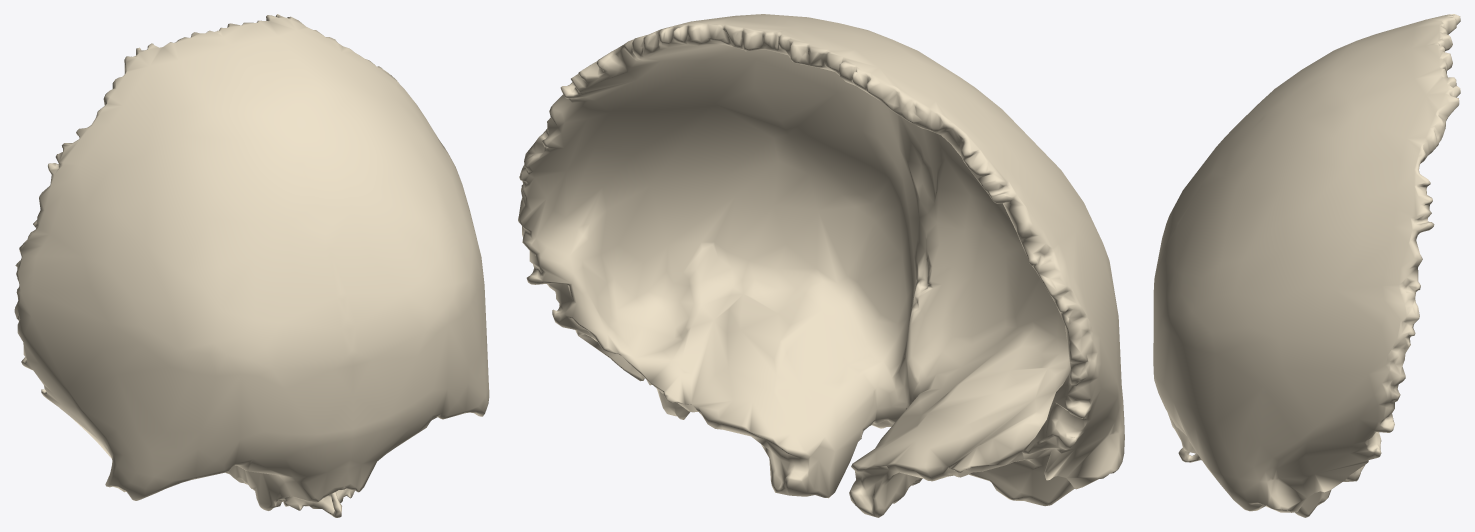
File: frontal-bone.glb
3 renders of one model, left to right at view 1: azimuth 30°, elevation 25°; view 2: azimuth 150°, elevation 25°; view 3: azimuth 270°, elevation 25°, orthographic. The views are drawn at different scales.
Visible parts, largest first — view 1: Frontal bone; view 2: Frontal bone; view 3: Frontal bone.
Boxes of the visible parts, x1,y1,x2,y2 form: Frontal bone: [14, 14, 489, 517]; Frontal bone: [518, 14, 1124, 517]; Frontal bone: [1153, 14, 1460, 517].
Size of the model in its own units: 0.1224 by 0.1066 by 0.0691.
